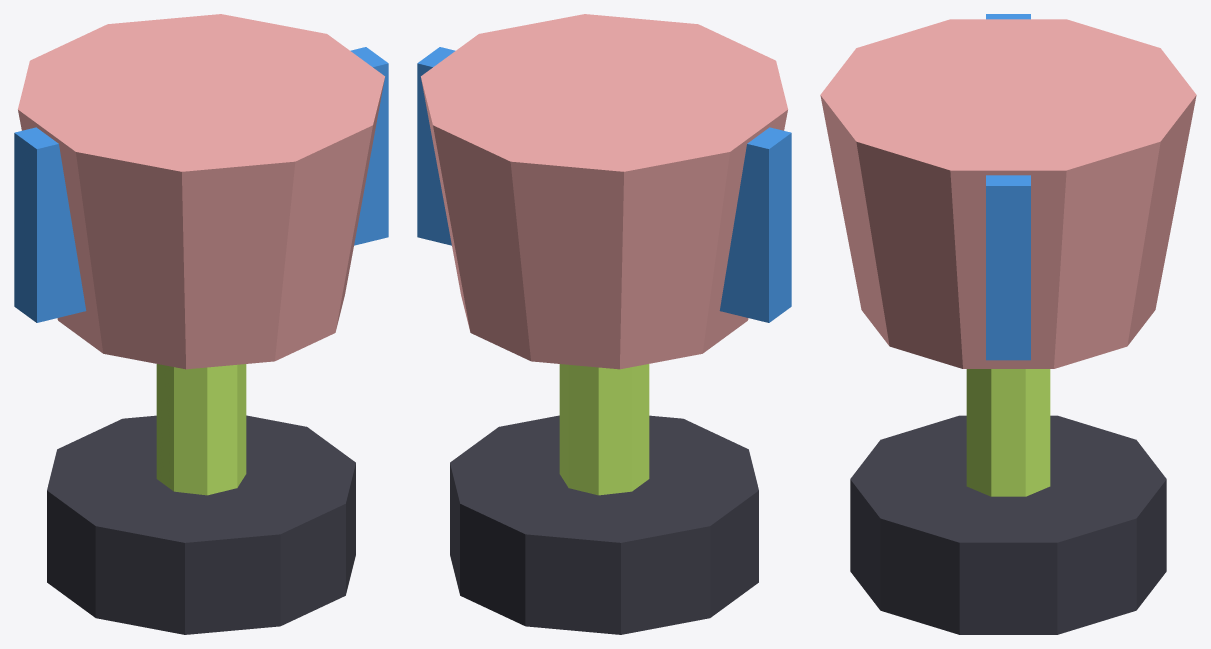
The model's file is trophy.obj.
3 renders of one model, left to right at view 1: azimuth 30°, elevation 25°; view 2: azimuth 150°, elevation 25°; view 3: azimuth 270°, elevation 25°, orthographic.
Parts seen in each view (by area): view 1: faceted-cup, trophy-base, trophy-stem, left-handle, right-handle; view 2: faceted-cup, trophy-base, trophy-stem, left-handle, right-handle; view 3: faceted-cup, trophy-base, trophy-stem, right-handle.
Boxes of the visible parts, x1,y1,x2,y2 form: faceted-cup: (18, 14, 384, 369); trophy-base: (47, 415, 355, 634); trophy-stem: (156, 364, 246, 495); left-handle: (14, 127, 86, 322); right-handle: (350, 47, 388, 245); faceted-cup: (421, 14, 787, 369); trophy-base: (450, 415, 758, 634); trophy-stem: (559, 364, 649, 495); left-handle: (719, 127, 791, 322); right-handle: (417, 47, 455, 245); faceted-cup: (820, 19, 1196, 368); trophy-base: (850, 415, 1166, 634); trophy-stem: (966, 369, 1050, 496); right-handle: (986, 175, 1030, 360).
Size of the model in its own units: 0.72 by 0.93 by 0.6656.
